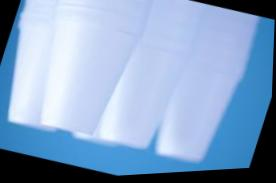paper: (20, 0, 150, 145), (150, 0, 260, 171), (93, 0, 200, 156), (22, 0, 138, 143), (0, 5, 89, 136), (152, 48, 243, 170), (94, 36, 184, 156)
